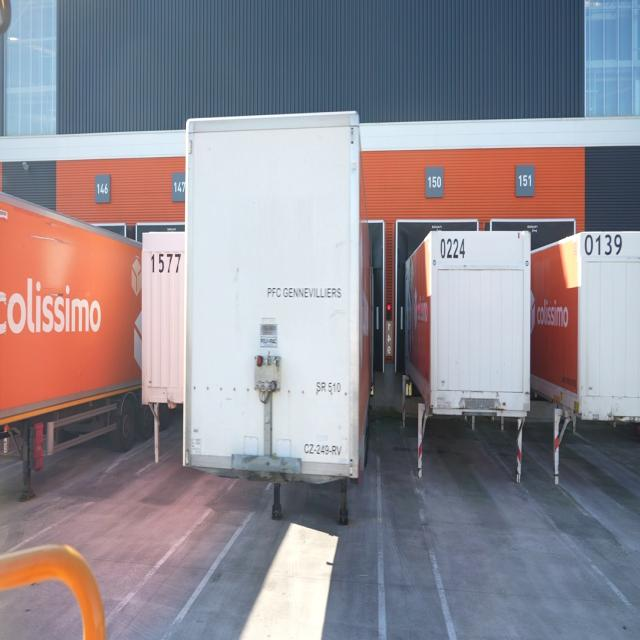Code: (582, 233, 626, 258), (149, 250, 186, 277), (436, 235, 466, 266)
